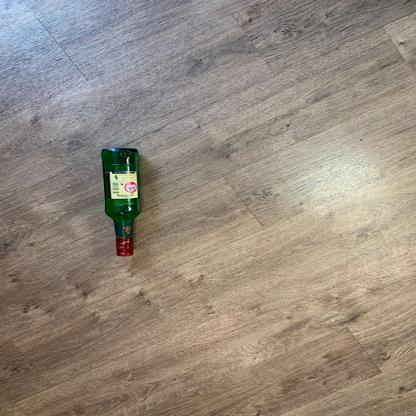trash: (100, 145, 144, 259)
